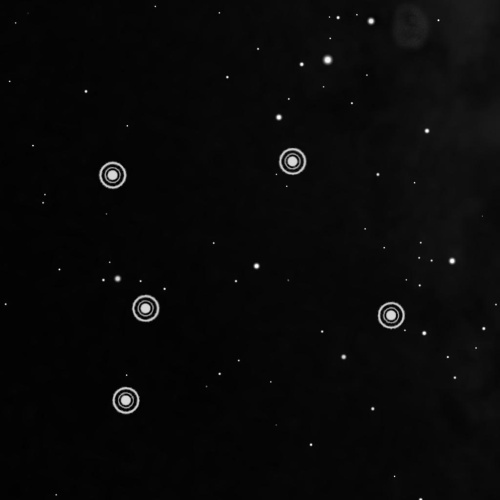libra: (89, 134, 411, 418)
